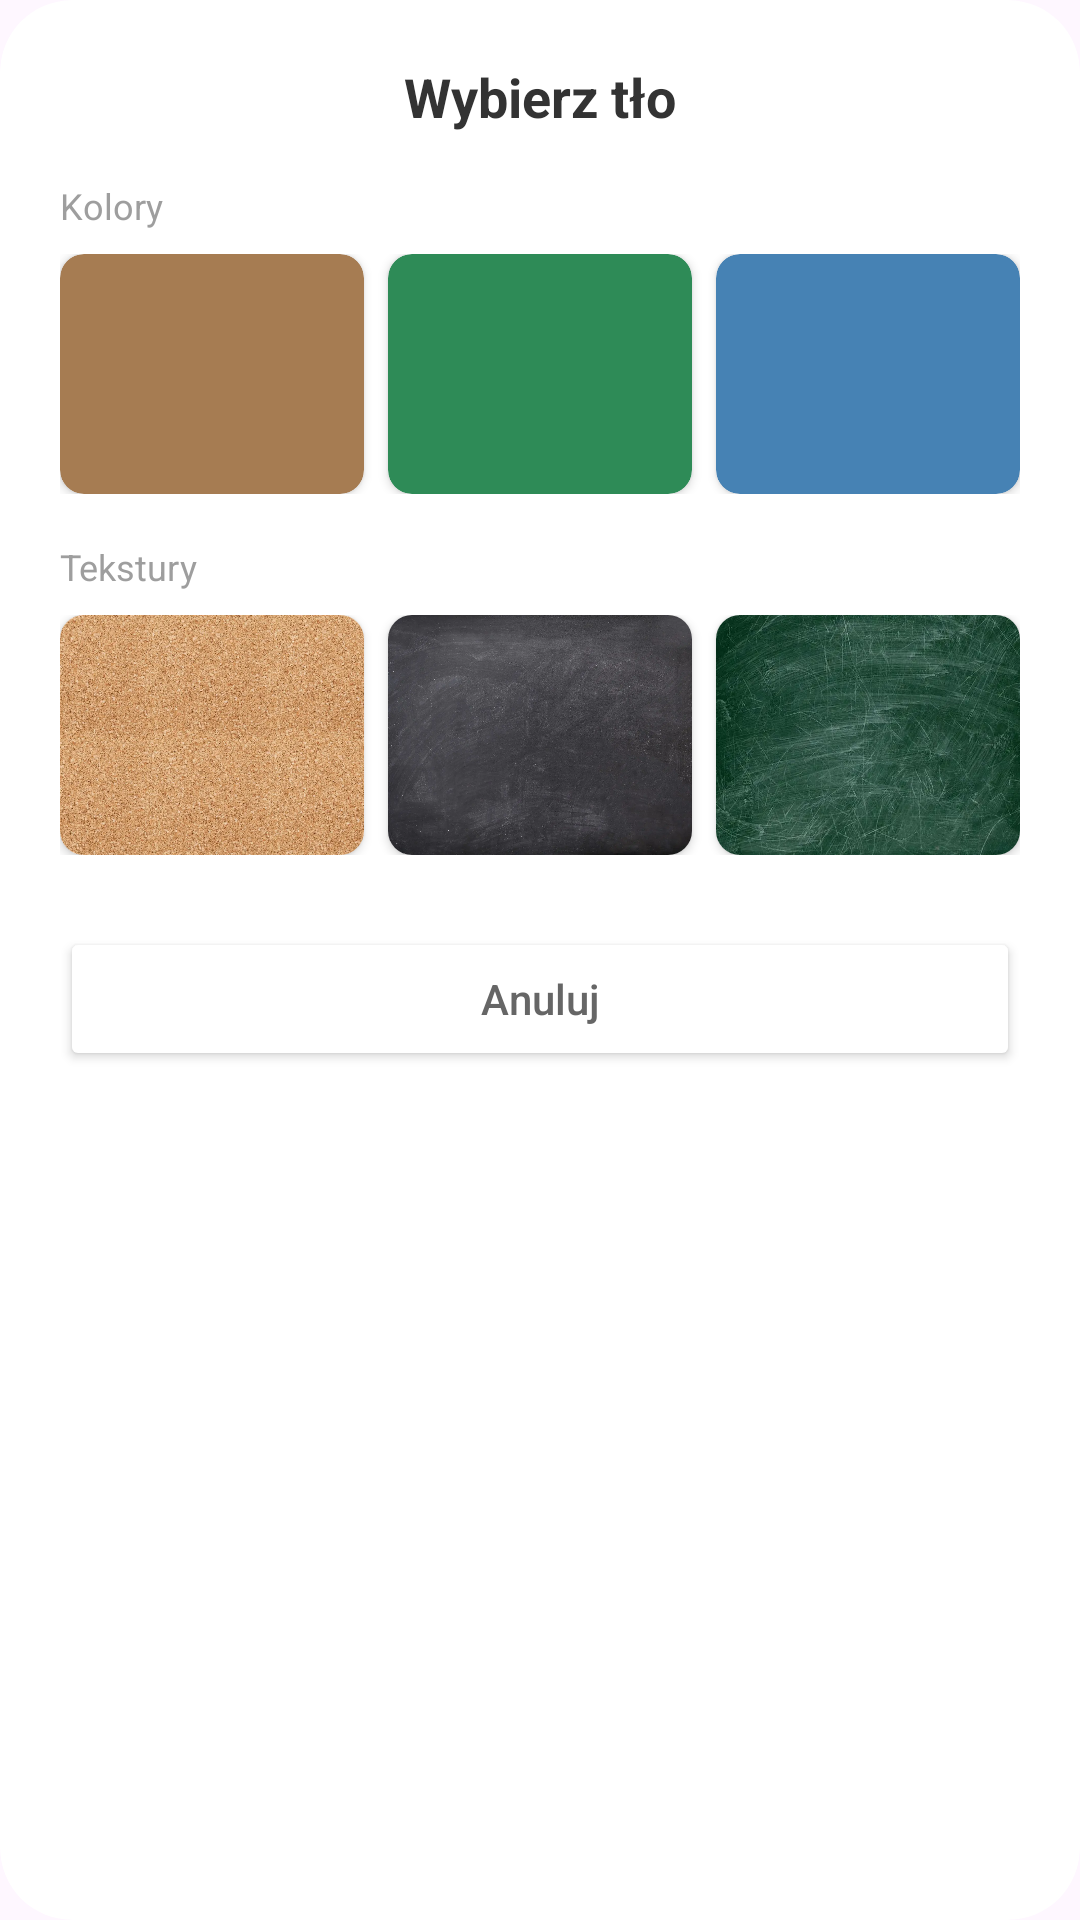

Icon bounding boxes for this 1080 × 1920 phone screenshot, format (x1, y1, x2, y2):
chalkboard: (388, 615, 692, 855)
corkboard: (60, 615, 364, 855)
greenboard: (716, 615, 1020, 855)
